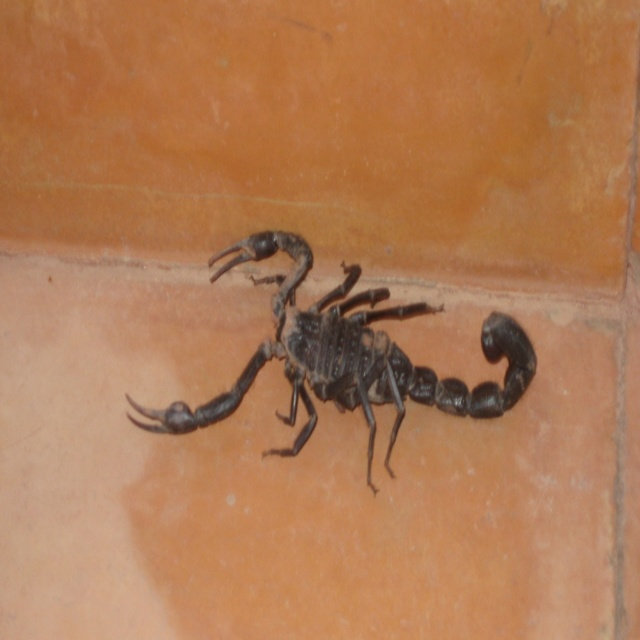Scorpion: (126, 227, 535, 494)
